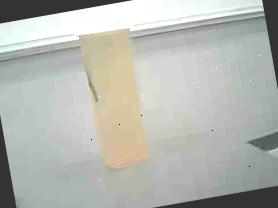Bottle A: (70, 11, 160, 180)
